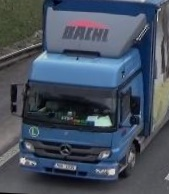truck: (8, 0, 169, 186)
